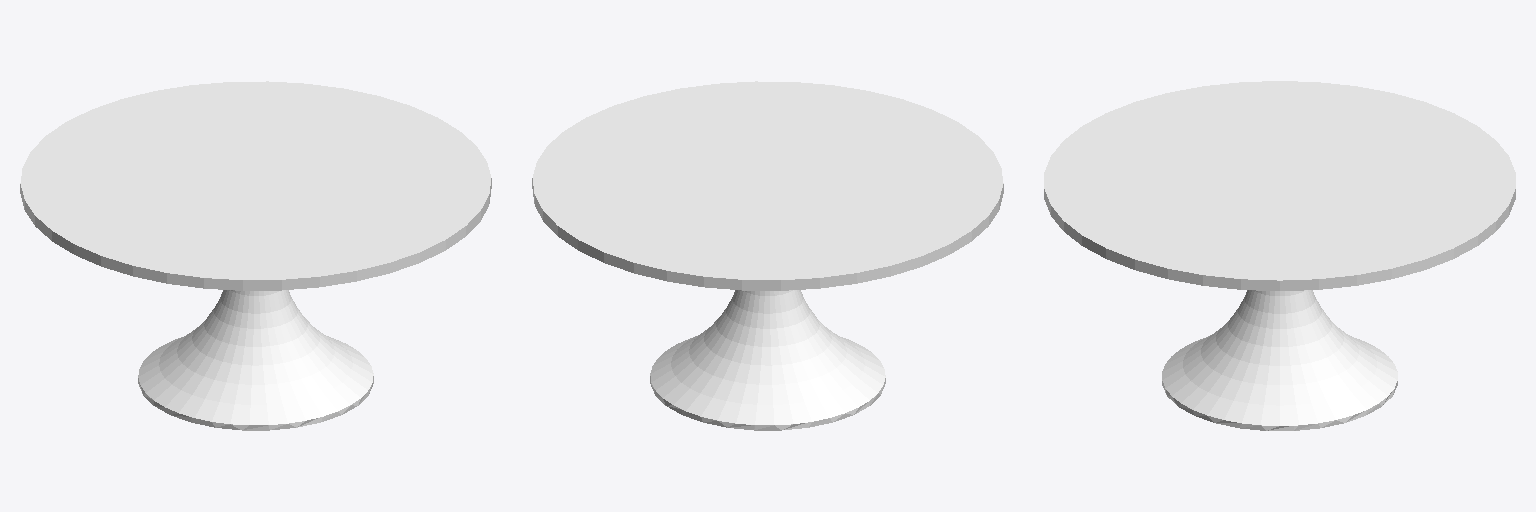
The robot description file, URDF, robot "Officedesk_R":
<?xml version="1.0" encoding="utf-8"?>
<!-- This URDF was automatically created by SolidWorks to URDF Exporter! Originally created by [author] ([email redacted]) 
     Commit Version: 1.5.1-0-g916b5db  Build Version: 1.5.7152.31018
     For more information, please see http://wiki.ros.org/sw_urdf_exporter -->
<robot
  name="Officedesk_R">
  <link
    name="Officedesk_R">
    <inertial>
      <origin
        xyz="1.6208E-16 3.6337E-07 0.45582"
        rpy="0 0 0" />
      <mass
        value="155.91" />
      <inertia
        ixx="29.354"
        ixy="-1.1148E-20"
        ixz="1.5834E-14"
        iyy="29.354"
        iyz="-4.1147E-05"
        izz="28.877" />
    </inertial>
    <visual>
      <origin
        xyz="0 0 0"
        rpy="0 0 0" />
      <geometry>
        <mesh
          filename="package://Officedesk_R/meshes/Officedesk_R.STL" />
      </geometry>
      <material
        name="">
        <color
          rgba="1 1 1 1" />
        <texture
          filename="package://Officedesk_R/textures/" />
      </material>
    </visual>
    <collision>
      <origin
        xyz="0 0 0"
        rpy="0 0 0" />
      <geometry>
        <mesh
          filename="package://Officedesk_R/meshes/Officedesk_R.STL" />
      </geometry>
    </collision>
  </link>
</robot>

--- Render facts (derived) ---
Views: 3 orthographic renders of the robot side by side, from view 1: azimuth 30°, elevation 25°; view 2: azimuth 150°, elevation 25°; view 3: azimuth 270°, elevation 25°.
Robot: Officedesk_R — 1 links, 0 joints (none); root link Officedesk_R; default pose: every joint at zero.
Visible links, largest first — view 1: Officedesk_R; view 2: Officedesk_R; view 3: Officedesk_R.
Boxes of the visible links, x1,y1,x2,y2 form: Officedesk_R: [20, 81, 491, 430]; Officedesk_R: [532, 81, 1003, 430]; Officedesk_R: [1044, 81, 1515, 430].
Size in the robot's own frame: 1.6 by 1.59 by 0.75 metres.
Meshes: 1 distinct files referenced, 1 mesh visuals loaded (1 binary STL).